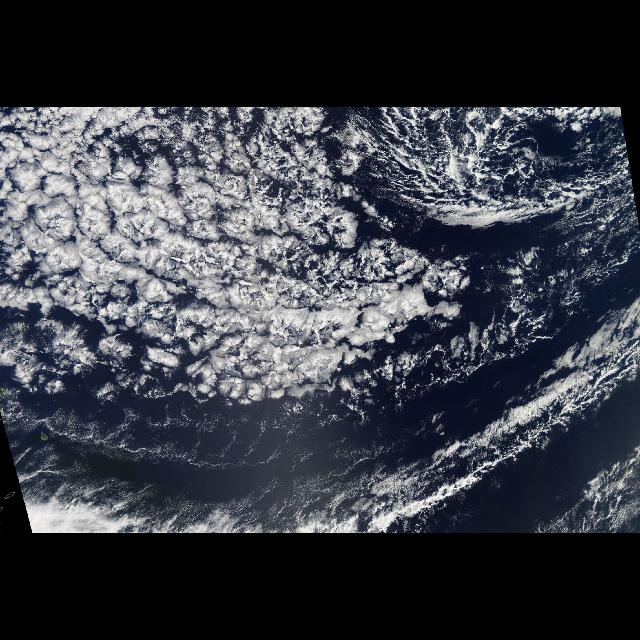Flower: (4, 139, 360, 407)
Sugar: (14, 416, 376, 514)
